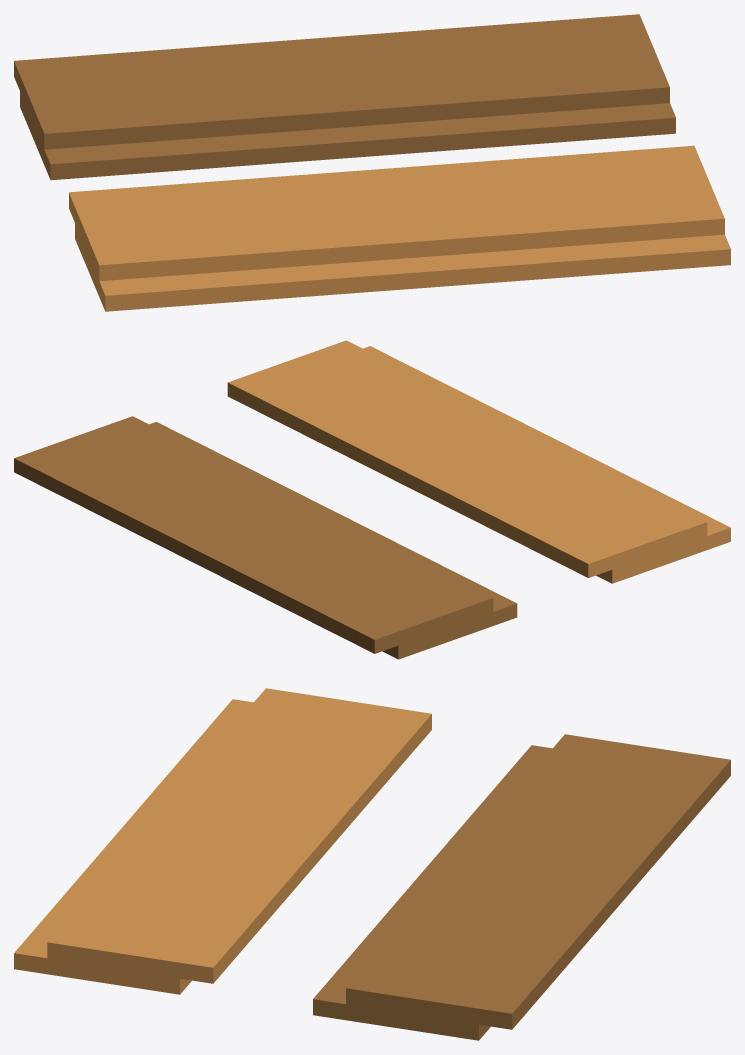
The picture shows the model from 3 angles, top to bottom: view 1: azimuth 30°, elevation 25°; view 2: azimuth 150°, elevation 25°; view 3: azimuth 270°, elevation 25°; orthographic projection. The views are drawn at different scales.
Bounding box in the file's own units: 5.9 × 0.2667 × 5.41.
